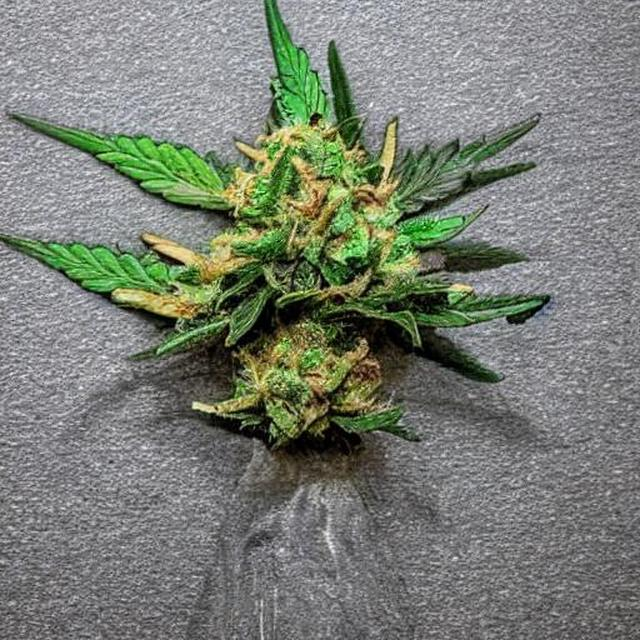Marijuana Plant: (2, 30, 639, 638)
